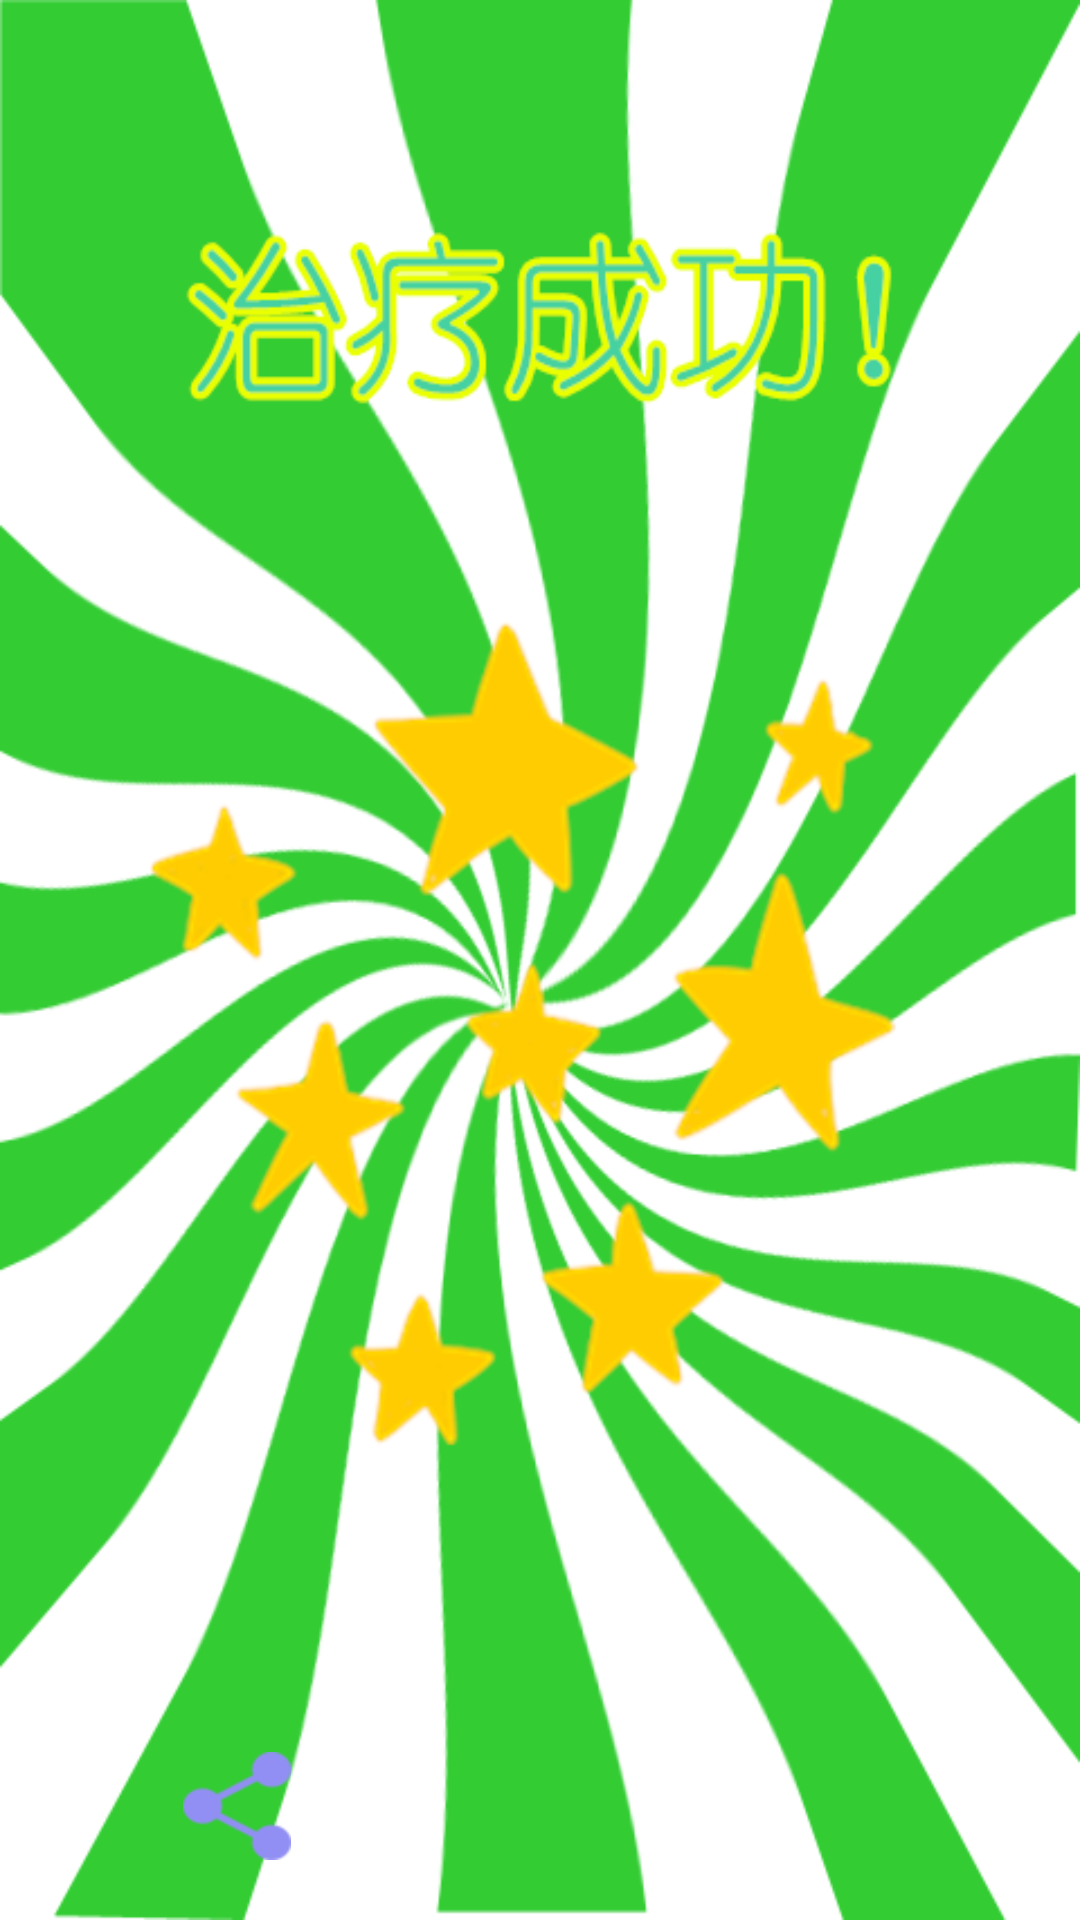

Point at icon controls on the screen. Image size 1080×1920, points as point (x, y).
share: point (237, 1806)
